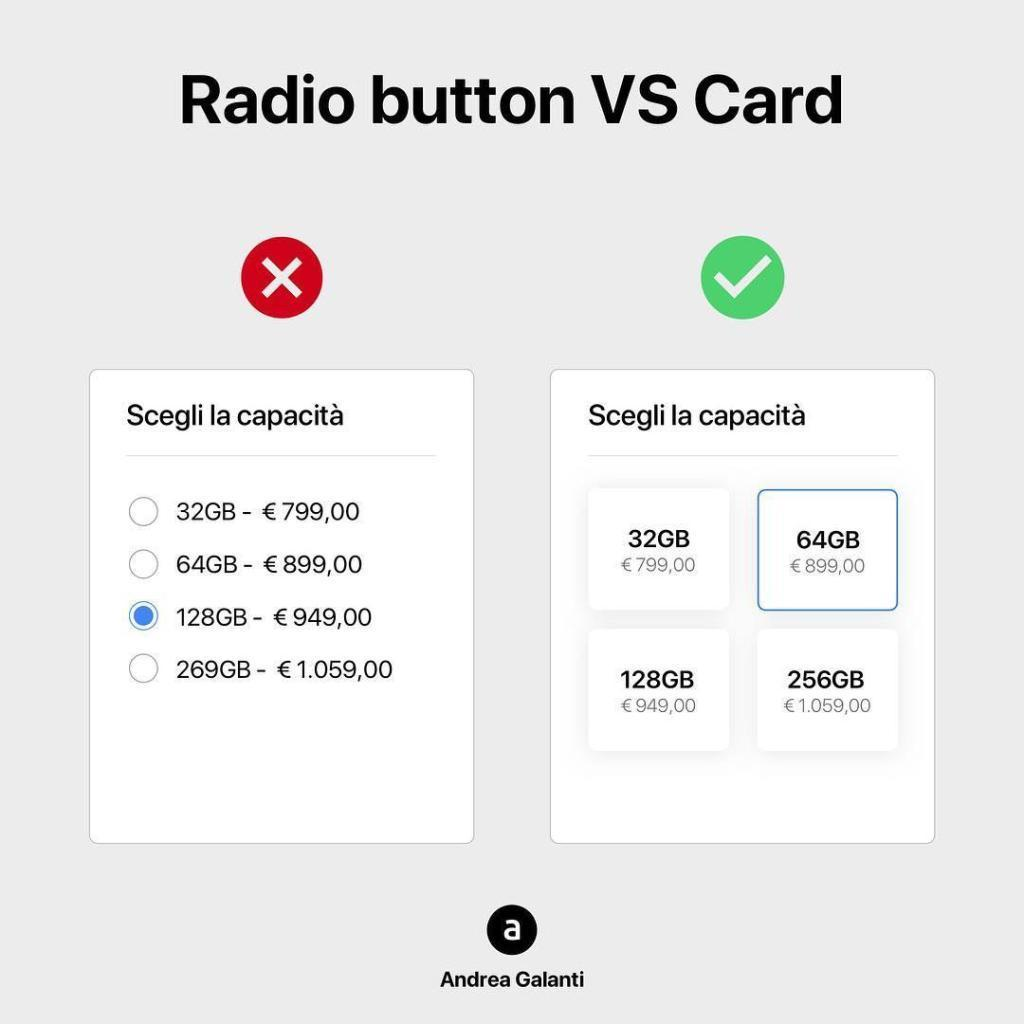label: (587, 399, 816, 436), (124, 399, 352, 435), (176, 652, 395, 689), (173, 550, 369, 585), (173, 495, 362, 528), (179, 602, 377, 632)
radio: (128, 600, 161, 638), (129, 652, 162, 686), (130, 497, 161, 532), (130, 550, 159, 582)
